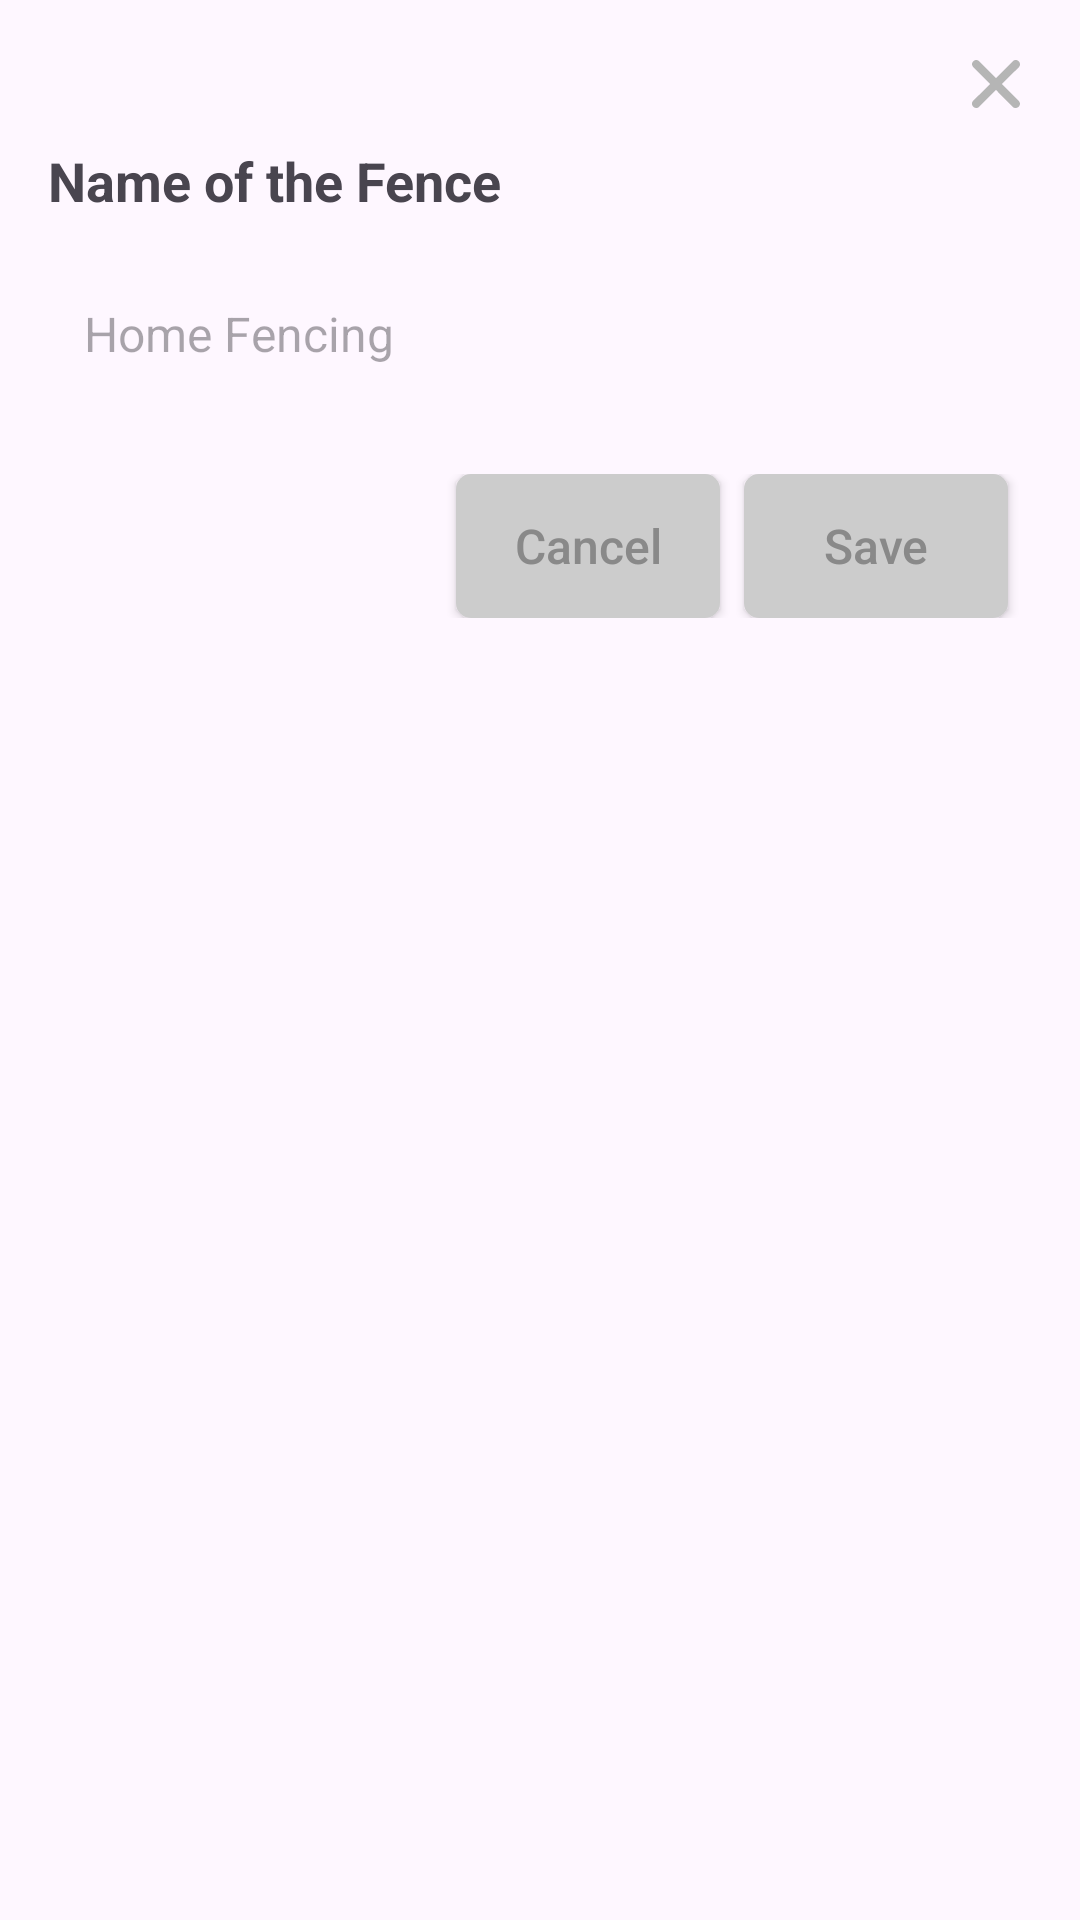

Screen size 1080px×1920px. Icon name, then its center in pixels as (x,y):
Close: (996,84)
